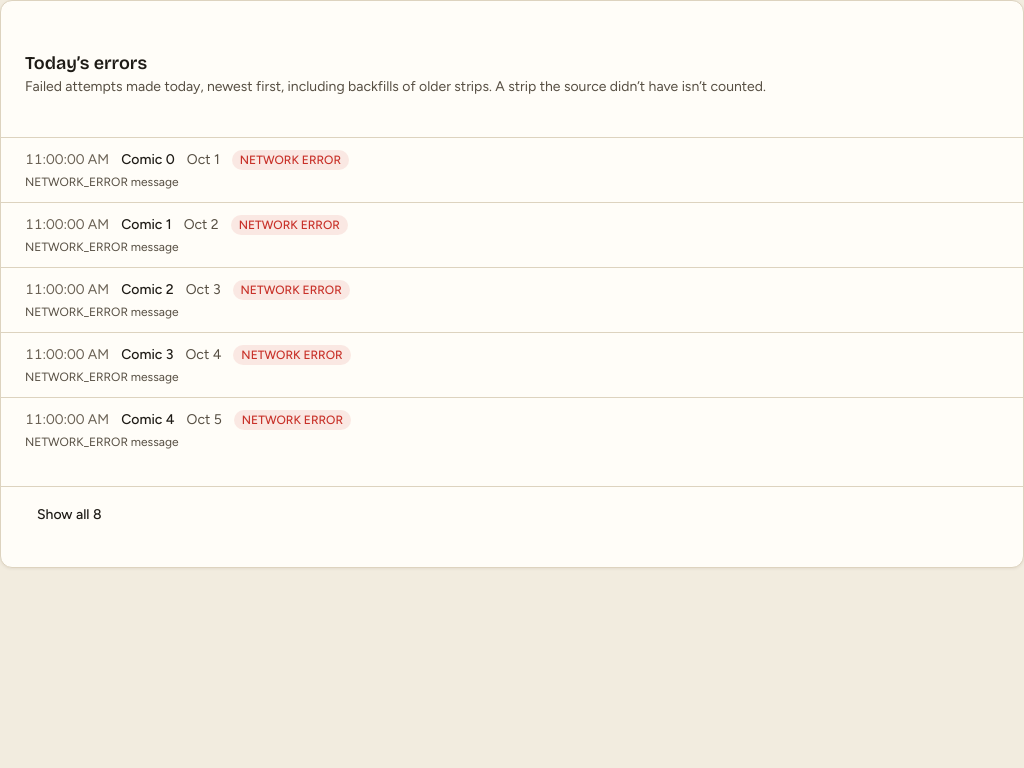
Test case: TodaysErrors › shows the latest five until asked for the rest
Check: the number of list items is 5, box [1,138,1023,203]; [1,203,1023,268]; [1,268,1023,333]; [1,333,1023,398]; [25,410,351,449]
Click the button "Show all 8".
click(69, 515)  # box [25,499,114,531]
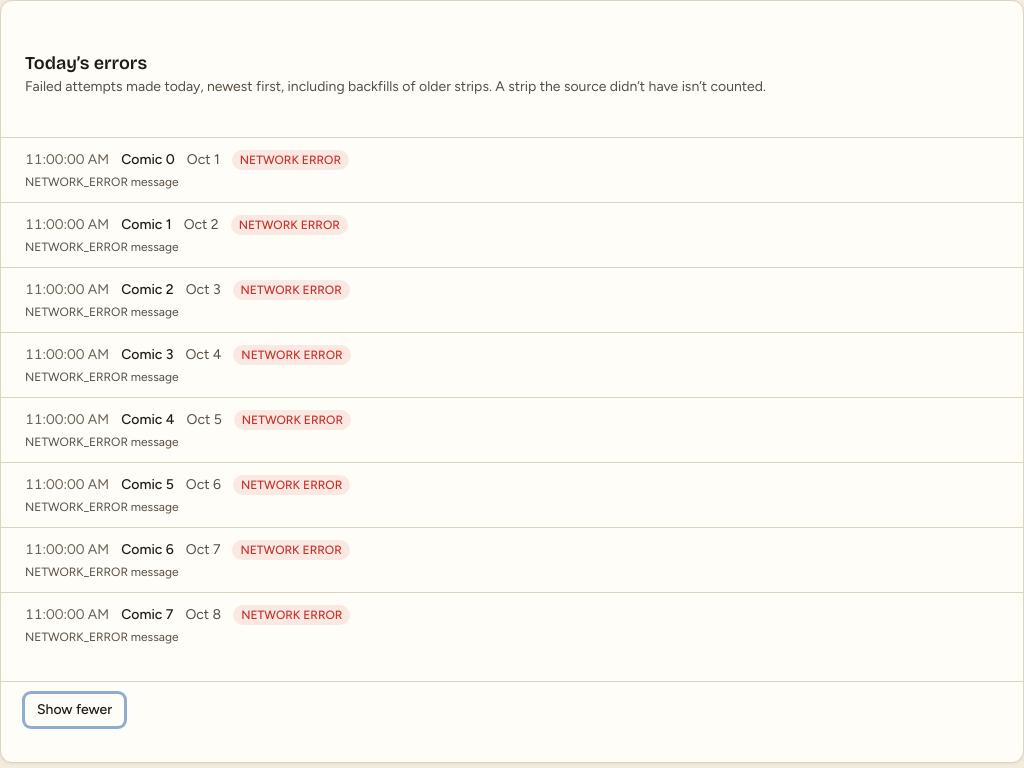
Check: the number of list items is 8
Click the button "Show fewer".
click(75, 710)  # box [25,694,124,726]
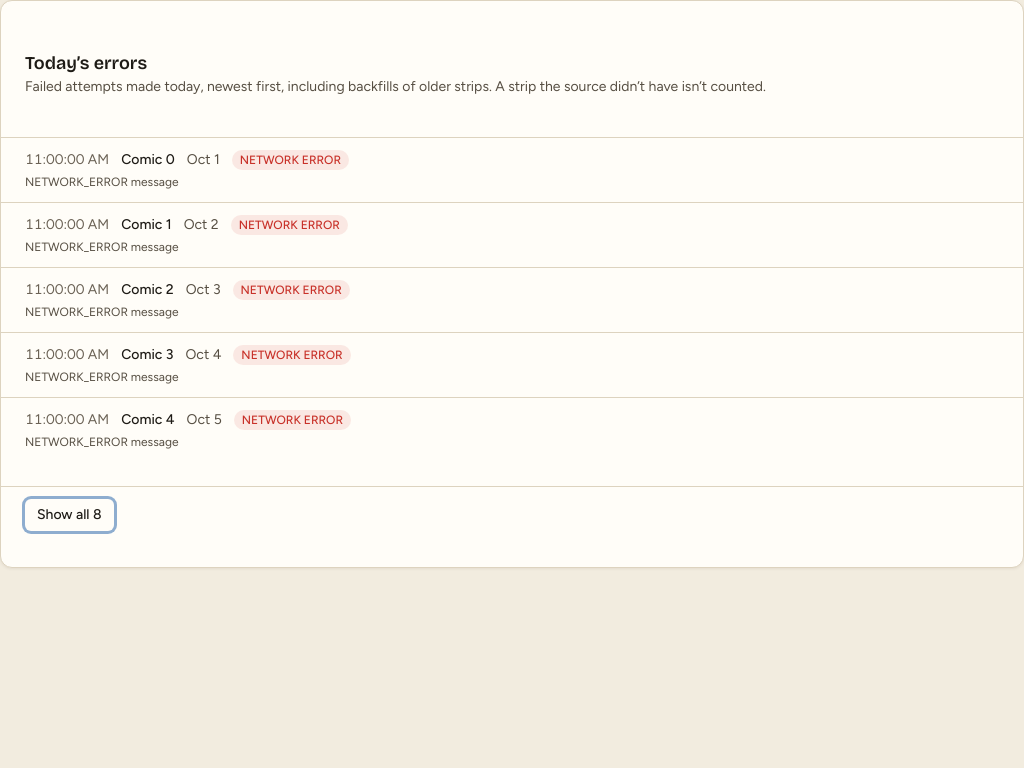
Check: the number of list items is 5, box [1,138,1023,203]; [1,203,1023,268]; [1,268,1023,333]; [1,333,1023,398]; [25,410,351,449]
